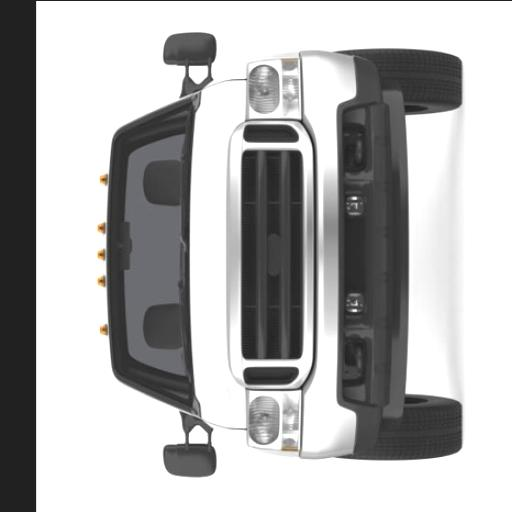car: (165, 33, 214, 68), (164, 441, 214, 474)
truck: (98, 47, 460, 458)
